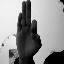f: (14, 1, 43, 56)
